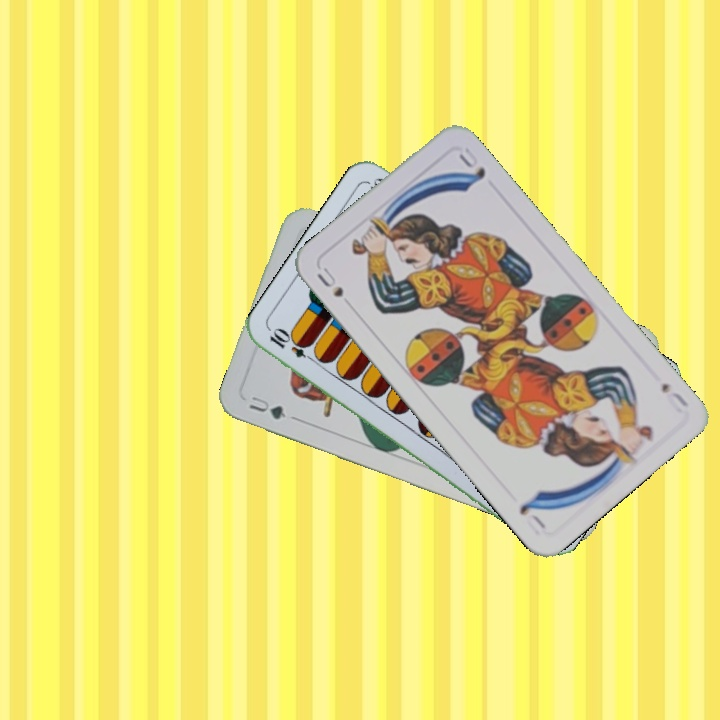E10: (265, 325, 320, 366)
GU: (245, 392, 289, 422)
SU: (657, 378, 691, 416), (313, 263, 346, 300)
